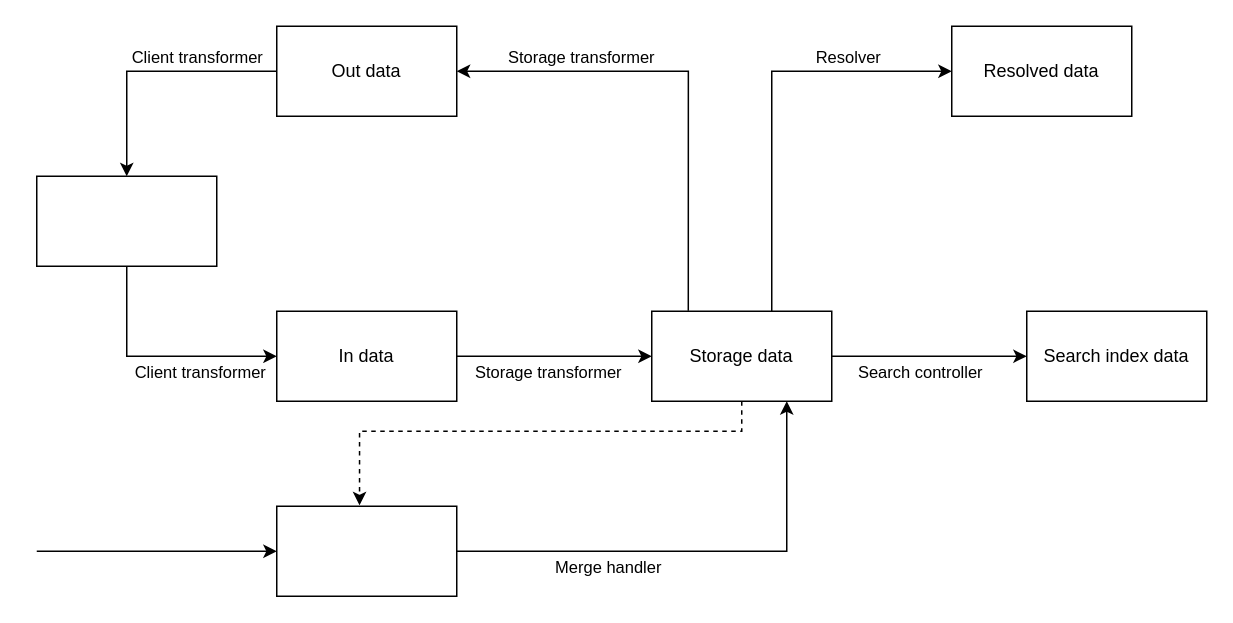
Image size: 1233x623. Some labels were removed from this diagram. The box of each missing label's shape, as (x1, y1, x2, y2) in pixels:
Client data: (35, 175, 217, 266)
Partial in data: (275, 505, 457, 596)
